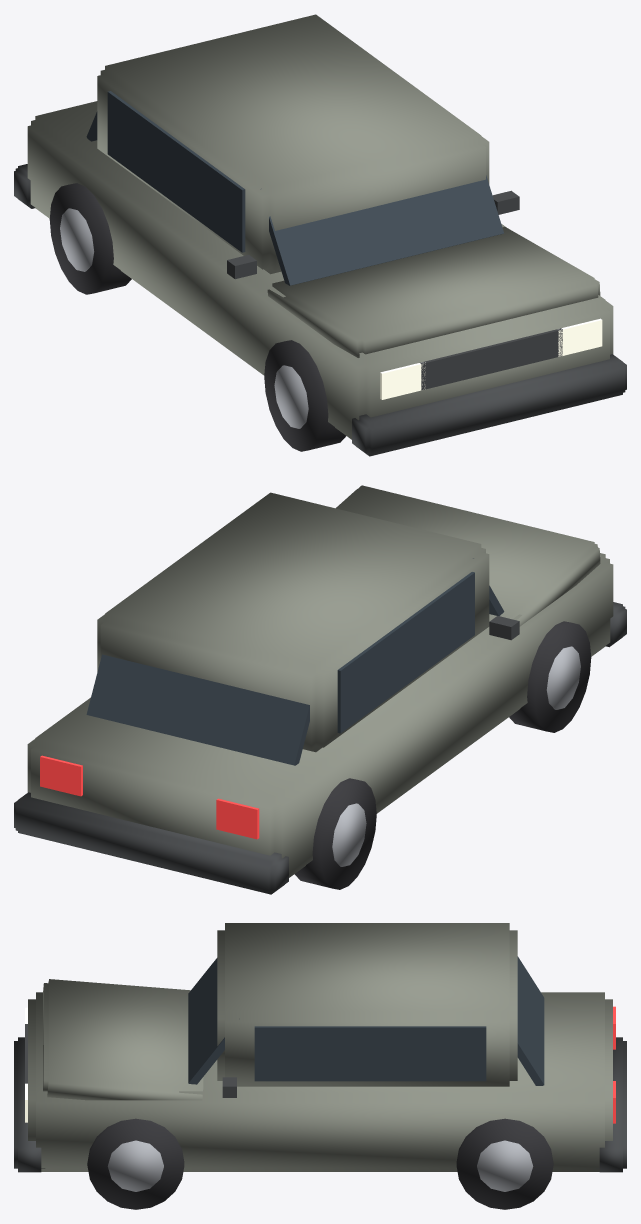
The model's file is skoda_favorit.glb.
3 views of the same model, one above another, from view 1: azimuth 30°, elevation 25°; view 2: azimuth 150°, elevation 25°; view 3: azimuth 270°, elevation 25° (orthographic). The views are drawn at different scales.
Parts seen in each view (by area): view 1: Cabin, LowerBody, HoodSlope, Windshield, FrontBumper, SideGlass_-0.725, Tire_-0.76_1.18, Tire_-0.76_-1.18, Grille, Rim_-0.76_-1.18, Rim_-0.76_1.18, Headlight_0.56 (+1 smaller); view 2: Cabin, LowerBody, RearGlass, HoodSlope, RearBumper, SideGlass_-0.725, Tire_-0.76_1.18, Tire_-0.76_-1.18, Rim_-0.76_-1.18, Rim_-0.76_1.18, Taillight_-0.56, Taillight_0.56 (+2 smaller); view 3: LowerBody, Cabin, HoodSlope, SideGlass_0.725, Tire_0.76_1.18, Tire_0.76_-1.18, Windshield, RearGlass, Rim_0.76_1.18, Rim_0.76_-1.18, RearBumper, FrontBumper.
Part boxes in pixels (x1,y1,x2,y2): Cabin: [97, 14, 489, 274]; LowerBody: [27, 101, 613, 439]; HoodSlope: [267, 227, 600, 357]; Windshield: [260, 175, 503, 285]; FrontBumper: [352, 354, 626, 456]; SideGlass_-0.725: [107, 91, 245, 252]; Tire_-0.76_1.18: [49, 183, 131, 294]; Tire_-0.76_-1.18: [264, 340, 345, 451]; Grille: [420, 328, 562, 390]; Rim_-0.76_-1.18: [274, 365, 308, 428]; Rim_-0.76_1.18: [60, 208, 94, 271]; Headlight_0.56: [558, 318, 602, 356]; Cabin: [97, 492, 489, 752]; LowerBody: [27, 553, 613, 877]; RearGlass: [86, 654, 309, 765]; HoodSlope: [336, 485, 600, 626]; RearBumper: [14, 792, 288, 894]; SideGlass_-0.725: [337, 572, 474, 733]; Tire_-0.76_1.18: [294, 778, 376, 889]; Tire_-0.76_-1.18: [509, 621, 591, 732]; Rim_-0.76_-1.18: [546, 646, 580, 709]; Rim_-0.76_1.18: [332, 803, 366, 866]; Taillight_-0.56: [216, 798, 259, 839]; Taillight_0.56: [40, 755, 82, 796]; LowerBody: [28, 992, 612, 1171]; Cabin: [217, 923, 517, 1086]; HoodSlope: [43, 979, 203, 1100]; SideGlass_0.725: [254, 1026, 486, 1081]; Tire_0.76_1.18: [456, 1118, 553, 1209]; Tire_0.76_-1.18: [87, 1118, 184, 1209]; Windshield: [188, 958, 224, 1084]; RearGlass: [517, 956, 544, 1085]; Rim_0.76_1.18: [477, 1140, 533, 1191]; Rim_0.76_-1.18: [107, 1140, 163, 1191]; RearBumper: [596, 1037, 626, 1172]; FrontBumper: [14, 1037, 44, 1172].
Bounding box in the file's own units: 1.81 × 1.31 × 3.92.
